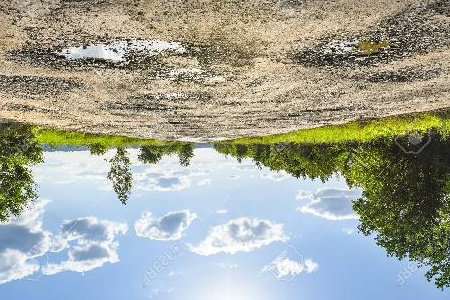pothole: (24, 36, 200, 73), (297, 28, 420, 71), (363, 67, 420, 87)
